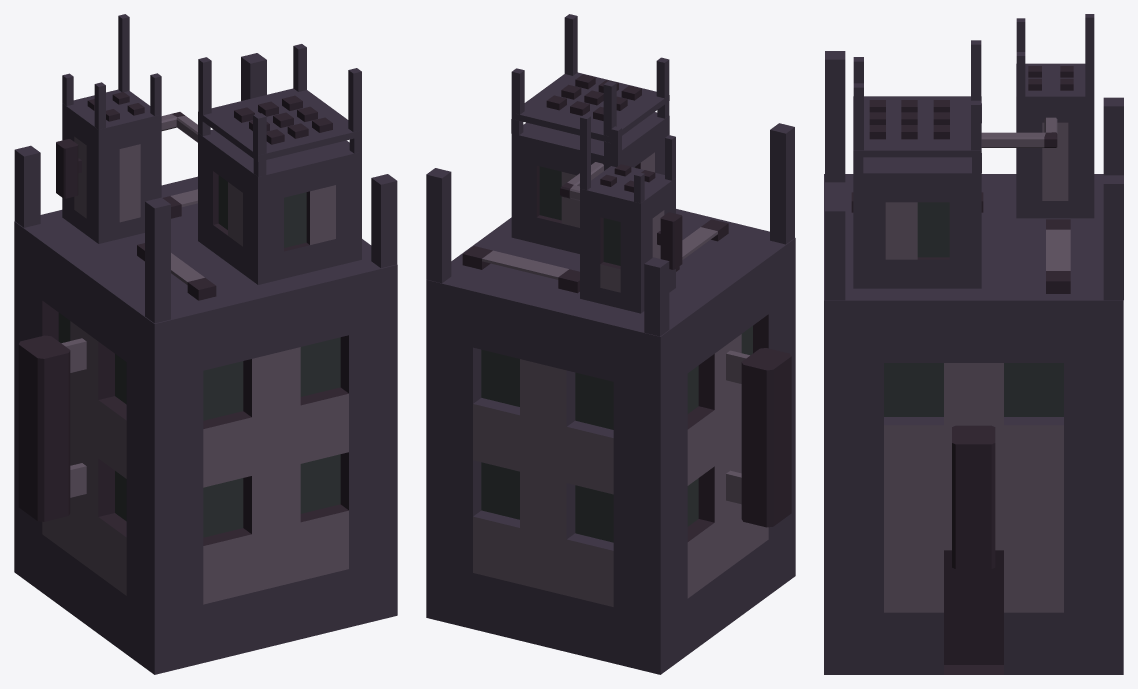
The model's file is Tower-3-2.fbx.
The picture shows the model from 3 angles, left to right: view 1: azimuth 30°, elevation 25°; view 2: azimuth 150°, elevation 25°; view 3: azimuth 270°, elevation 25°; orthographic projection. The views are drawn at different scales.
Parts seen in each view (by area): view 1: Tower-3-2.001; view 2: Tower-3-2.001; view 3: Tower-3-2.001.
Boxes of the visible parts, x1,y1,x2,y2 form: Tower-3-2.001: (14,14,397,674); Tower-3-2.001: (426,14,795,674); Tower-3-2.001: (824,14,1123,674).
Size of the model in its own units: 96.81 by 144 by 67.46.
